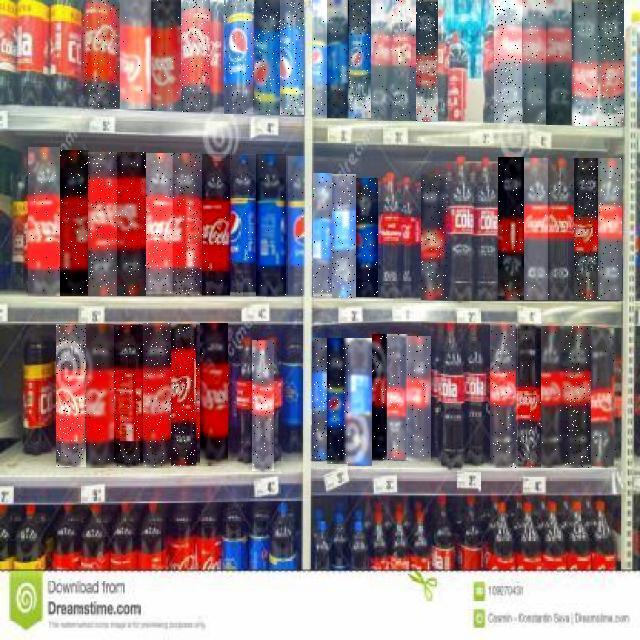Drinks: (28, 147, 60, 296), (88, 152, 118, 296), (56, 324, 86, 467), (256, 155, 286, 297), (60, 150, 89, 296), (117, 152, 146, 296), (114, 324, 143, 468), (143, 323, 171, 468), (490, 324, 518, 468), (86, 324, 114, 468), (146, 154, 174, 296), (174, 154, 202, 296), (202, 155, 230, 297), (172, 325, 200, 467), (200, 324, 228, 466), (83, 0, 119, 109), (230, 156, 258, 296), (516, 324, 542, 468), (498, 157, 524, 300), (542, 327, 568, 469), (566, 326, 592, 468), (549, 158, 575, 300), (574, 158, 600, 300), (592, 328, 618, 466), (572, 0, 600, 126), (546, 0, 574, 125), (495, 0, 523, 123), (150, 0, 181, 111), (224, 0, 254, 114), (524, 158, 548, 300), (598, 158, 622, 300), (120, 0, 151, 109), (599, 0, 625, 126), (422, 174, 448, 300), (181, 0, 210, 112), (253, 0, 280, 115), (348, 339, 372, 467), (332, 174, 356, 298), (252, 340, 274, 471), (523, 0, 546, 123), (388, 334, 410, 460), (328, 338, 350, 464), (280, 0, 304, 115), (409, 336, 431, 461), (348, 0, 371, 118), (416, 0, 438, 122), (394, 0, 416, 120), (372, 0, 394, 120), (357, 178, 379, 297), (327, 0, 349, 118), (313, 174, 332, 298), (288, 156, 304, 295), (372, 334, 388, 460), (312, 338, 328, 460), (313, 0, 327, 118)
